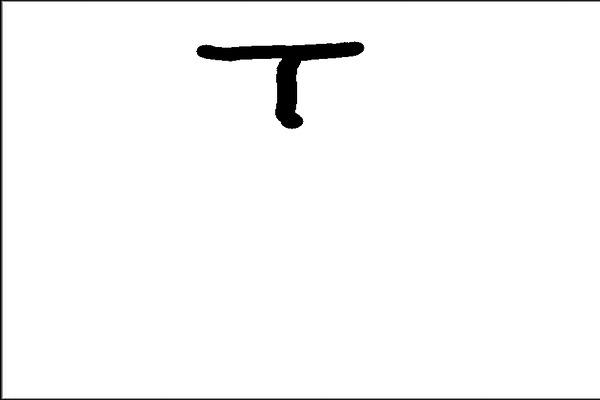T: (187, 33, 381, 134)
